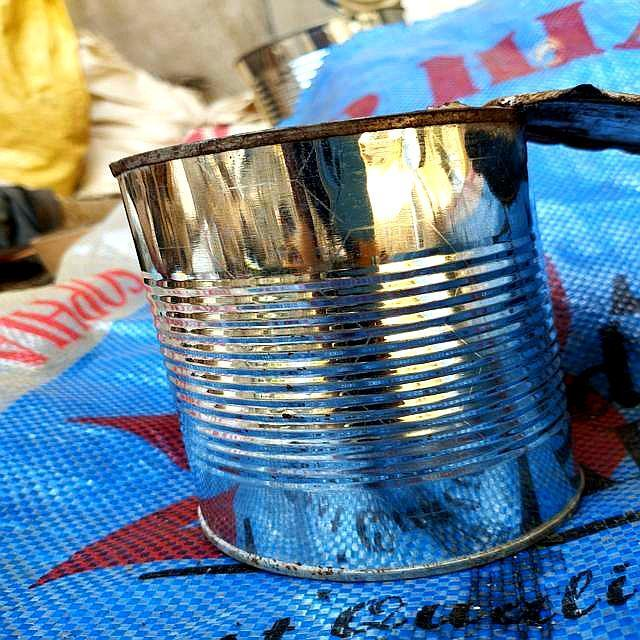Non-biodegradable: (113, 97, 611, 631)
